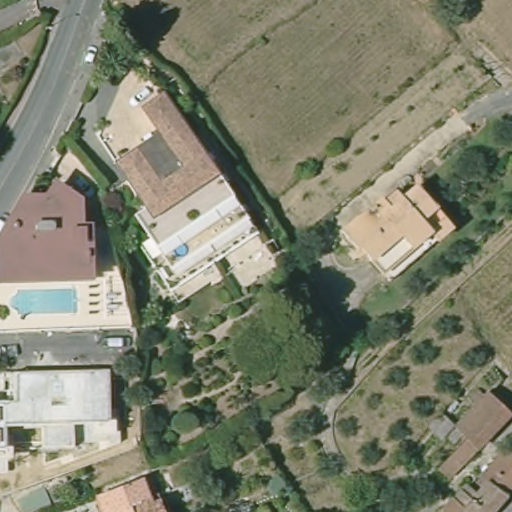pool: (5, 280, 87, 319), (173, 242, 191, 259)
